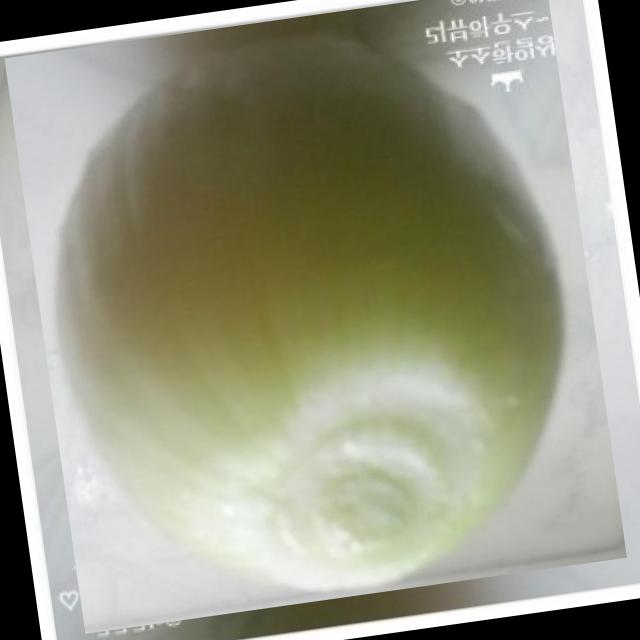Onion: (4, 0, 628, 634)
